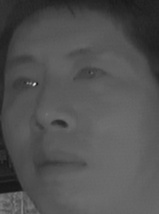eye: (71, 63, 108, 87), (9, 72, 41, 95)
mouth: (28, 147, 91, 183)
